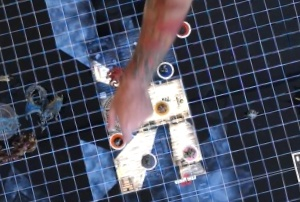blue: (152, 57, 177, 82)
orange: (104, 129, 128, 152)
pink: (177, 139, 201, 164)
red: (172, 16, 193, 39)
violet: (138, 148, 159, 171)
yellow: (152, 96, 171, 117)
